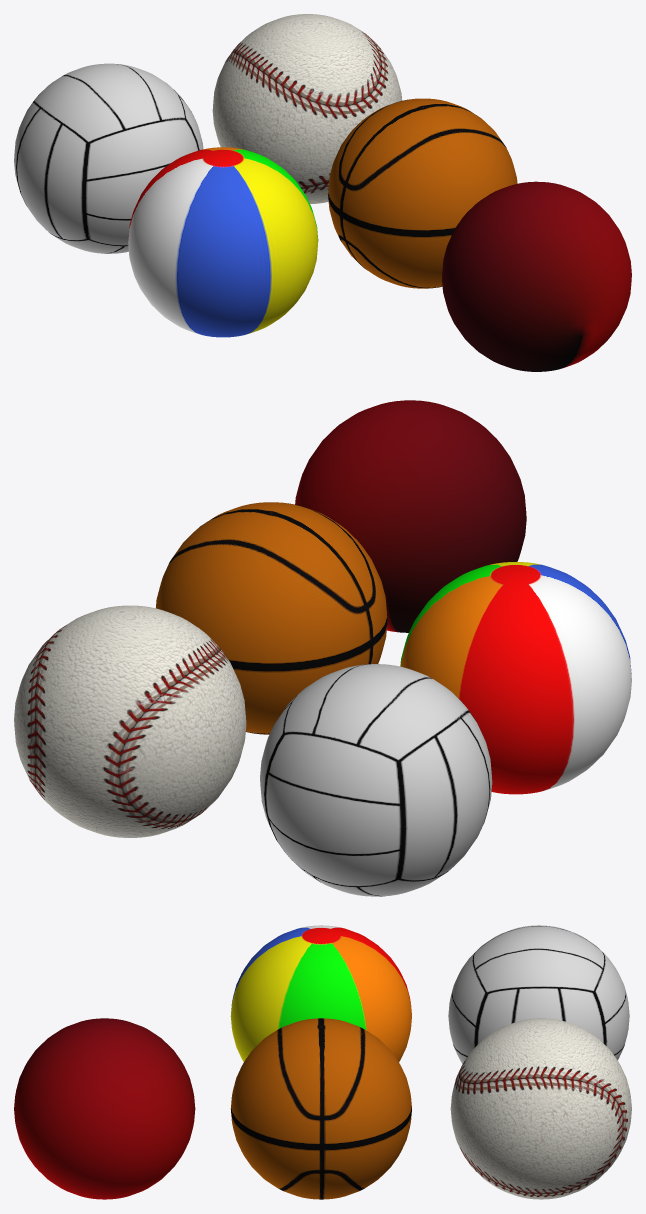
The model's file is balls test.FBX.
3 views of the same model, one above another, from view 1: azimuth 30°, elevation 25°; view 2: azimuth 150°, elevation 25°; view 3: azimuth 270°, elevation 25° (orthographic). The views are drawn at different scales.
Visible parts, largest first — view 1: beachball, kickball, volleyball, basketball, baseball; view 2: volleyball, baseball, beachball, basketball, kickball; view 3: baseball, kickball, basketball, beachball, volleyball.
Part boxes in pixels (<box>): beachball: <box>128,147,318,337</box>; kickball: <box>442,181,631,371</box>; volleyball: <box>14,63,203,253</box>; basketball: <box>328,98,517,288</box>; baseball: <box>212,14,402,204</box>; volleyball: <box>260,664,492,896</box>; baseball: <box>14,605,246,837</box>; beachball: <box>400,562,631,794</box>; basketball: <box>156,502,387,734</box>; kickball: <box>295,400,526,632</box>; baseball: <box>450,1018,631,1199</box>; kickball: <box>14,1018,195,1199</box>; basketball: <box>230,1018,411,1199</box>; beachball: <box>230,925,411,1061</box>; volleyball: <box>448,925,629,1063</box>.
Size of the model in its own units: 182 by 82.46 by 281.
Materials: 5 (4 with a texture image).
